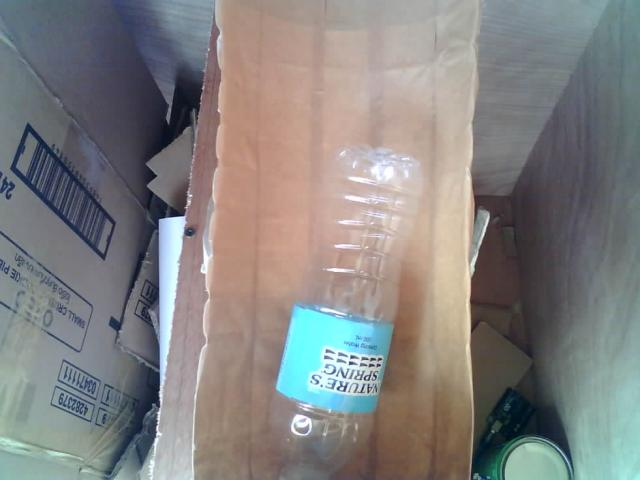small_bottle: (263, 128, 430, 480)
